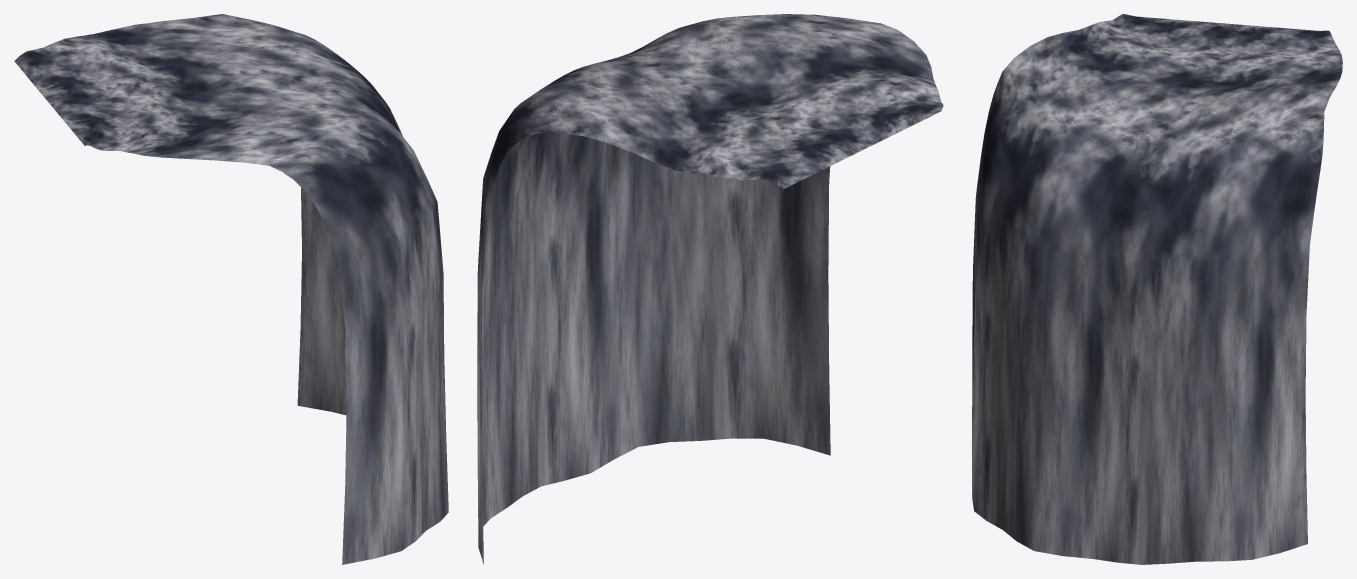
File: TROLLHOLE02_WATER01.fbx
3 renders of one model, left to right at view 1: azimuth 30°, elevation 25°; view 2: azimuth 150°, elevation 25°; view 3: azimuth 270°, elevation 25°, orthographic. The views are drawn at different scales.
Visible parts, largest first — view 1: TROLLHOLE02_WATER01; view 2: TROLLHOLE02_WATER01; view 3: TROLLHOLE02_WATER01.
Part boxes in pixels (x1,y1,x2,y2): TROLLHOLE02_WATER01: [14, 14, 448, 564]; TROLLHOLE02_WATER01: [477, 14, 943, 564]; TROLLHOLE02_WATER01: [972, 14, 1342, 564].
Size of the model in its own units: 300683 by 347032 by 292588.
Materials: 1 (1 with a texture image).
